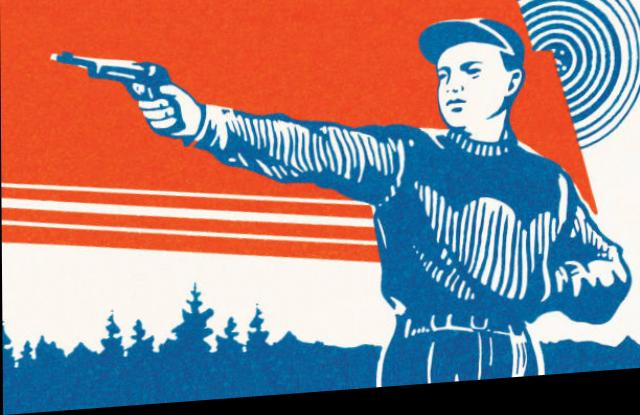other: (360, 15, 578, 393)
